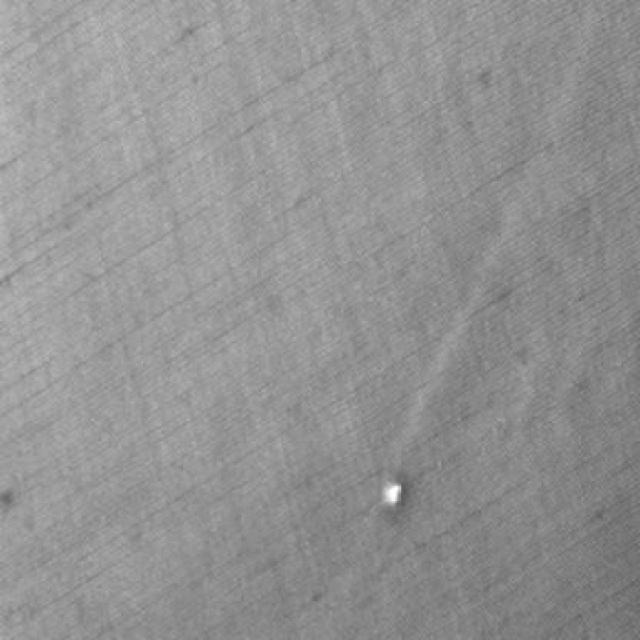other: (374, 476, 410, 511)
